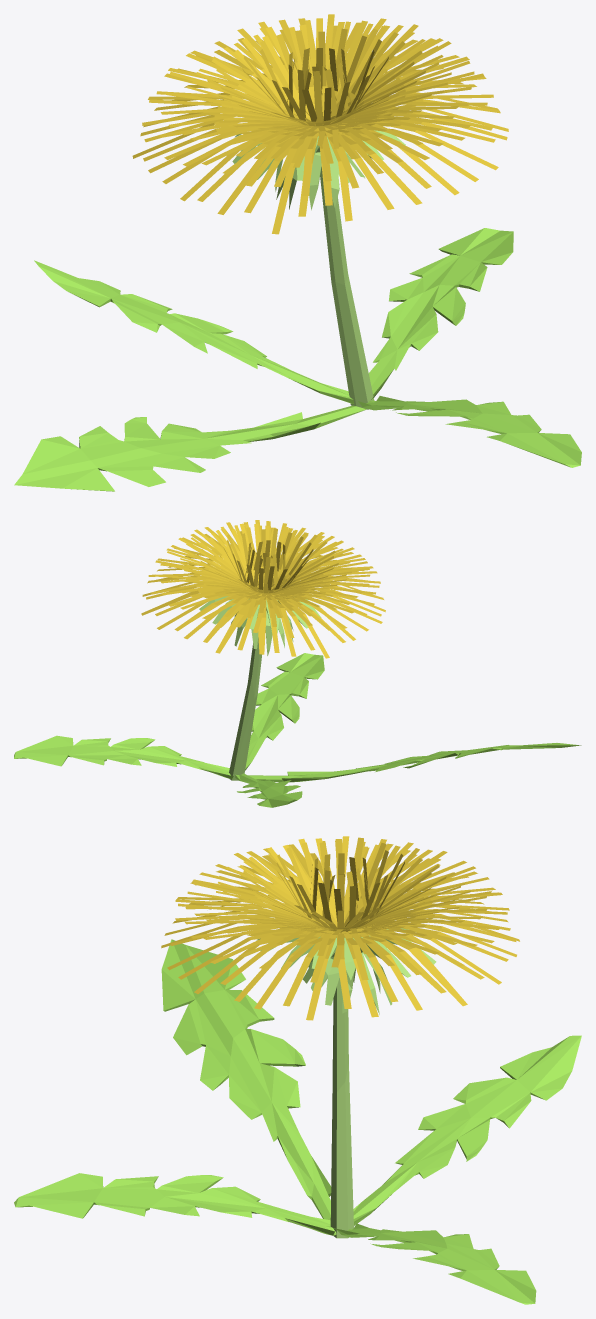
File: Dandelion_LP_3.fbx
The picture shows the model from 3 angles, top to bottom: view 1: azimuth 30°, elevation 25°; view 2: azimuth 150°, elevation 25°; view 3: azimuth 270°, elevation 25°; orthographic projection. The views are drawn at different scales.
Visible parts, largest first — view 1: Dandelion_LP_3; view 2: Dandelion_LP_3; view 3: Dandelion_LP_3.
Boxes of the visible parts, bbox=[...] form: Dandelion_LP_3: bbox=[14, 14, 581, 491]; Dandelion_LP_3: bbox=[14, 520, 581, 807]; Dandelion_LP_3: bbox=[14, 836, 581, 1304].
Bounding box in the file's own units: 241 × 124 × 180.
